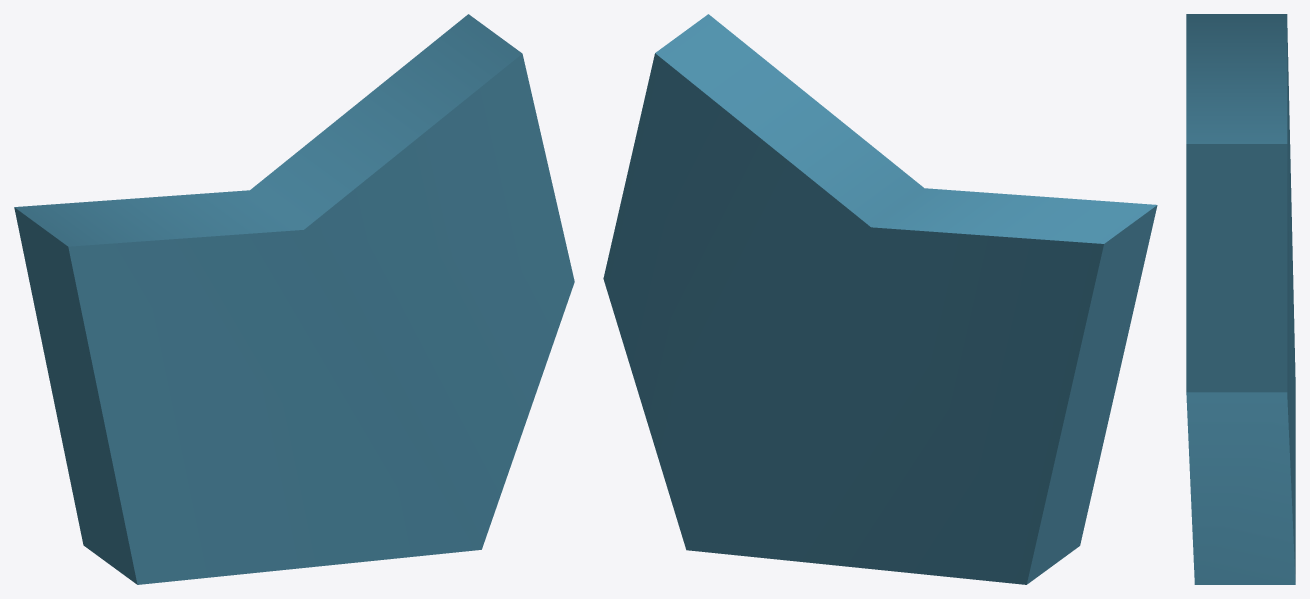
The model's file is NexusA_Trigger_49.fbx.
The picture shows the model from 3 angles, left to right: view 1: azimuth 30°, elevation 25°; view 2: azimuth 150°, elevation 25°; view 3: azimuth 270°, elevation 25°; orthographic projection. The views are drawn at different scales.
Parts seen in each view (by area): view 1: pCube33; view 2: pCube33; view 3: pCube33.
Part boxes in pixels (<box>): pCube33: <box>14,14,574,584</box>; pCube33: <box>603,14,1157,584</box>; pCube33: <box>1186,14,1295,584</box>.
Bounding box in the file's own units: 46.8 × 43.33 × 9.38.
